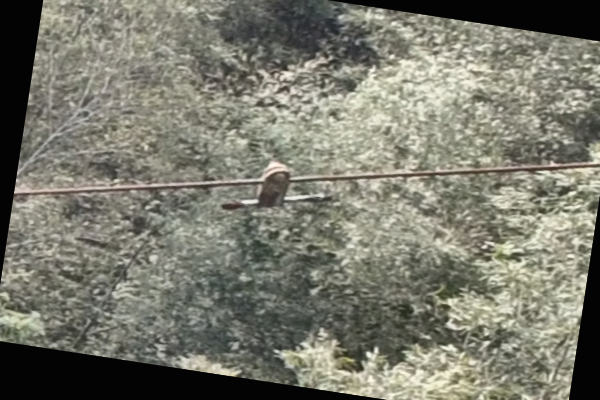damper_defect: (216, 159, 335, 214)
